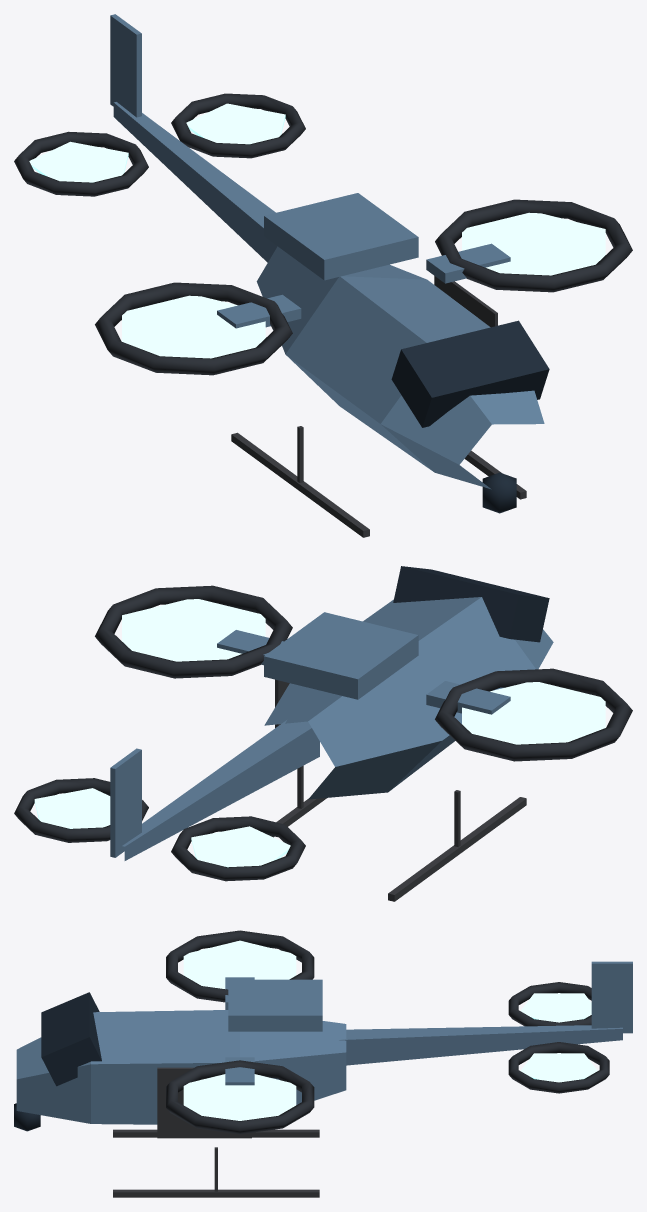
File: veh_air_heli_transport_a10_lod1.glb
3 renders of one model, top to bottom at view 1: azimuth 30°, elevation 25°; view 2: azimuth 150°, elevation 25°; view 3: azimuth 270°, elevation 25°, orthographic. The views are drawn at different scales.
Visible parts, largest first — view 1: body, rotor_r, rotor_l, rotor_aft_r, rotor_aft_l, door; view 2: body, rotor_r, rotor_l, rotor_aft_r, rotor_aft_l; view 3: body, rotor_l, rotor_r, rotor_aft_l, rotor_aft_r, door.
Boxes of the visible parts, box(x1,y1,x2,y2) form: body: box(110, 14, 549, 537); rotor_r: box(95, 282, 292, 375); rotor_l: box(435, 199, 632, 292); rotor_aft_r: box(14, 131, 148, 196); rotor_aft_l: box(171, 93, 305, 158); door: box(434, 276, 497, 327); body: box(110, 566, 553, 901); rotor_r: box(435, 668, 632, 761); rotor_l: box(95, 585, 292, 678); rotor_aft_r: box(171, 816, 305, 881); rotor_aft_l: box(14, 778, 148, 842); body: box(14, 961, 632, 1197); rotor_l: box(166, 1060, 314, 1134); rotor_r: box(166, 930, 314, 1002); rotor_aft_l: box(508, 1042, 609, 1093); rotor_aft_r: box(508, 982, 591, 1026); door: box(157, 1067, 251, 1138).
Size of the model in its own units: 7.84 by 3.8 by 10.48.
